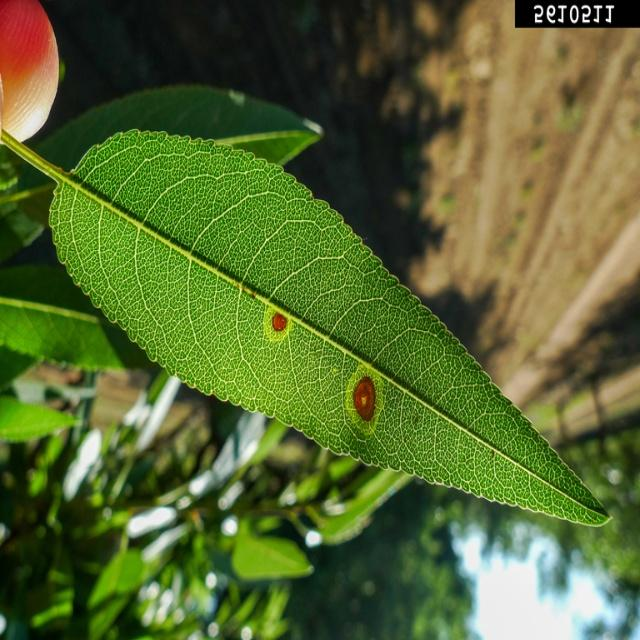leaf_spot: (40, 134, 624, 544)
